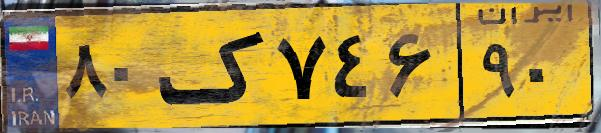0: (525, 38, 570, 115), (110, 28, 158, 98)
4: (330, 28, 385, 110)
6: (385, 28, 445, 110)
7: (270, 28, 330, 110)
8: (57, 26, 110, 100)
9: (475, 38, 525, 113)
ک: (158, 12, 270, 120)
